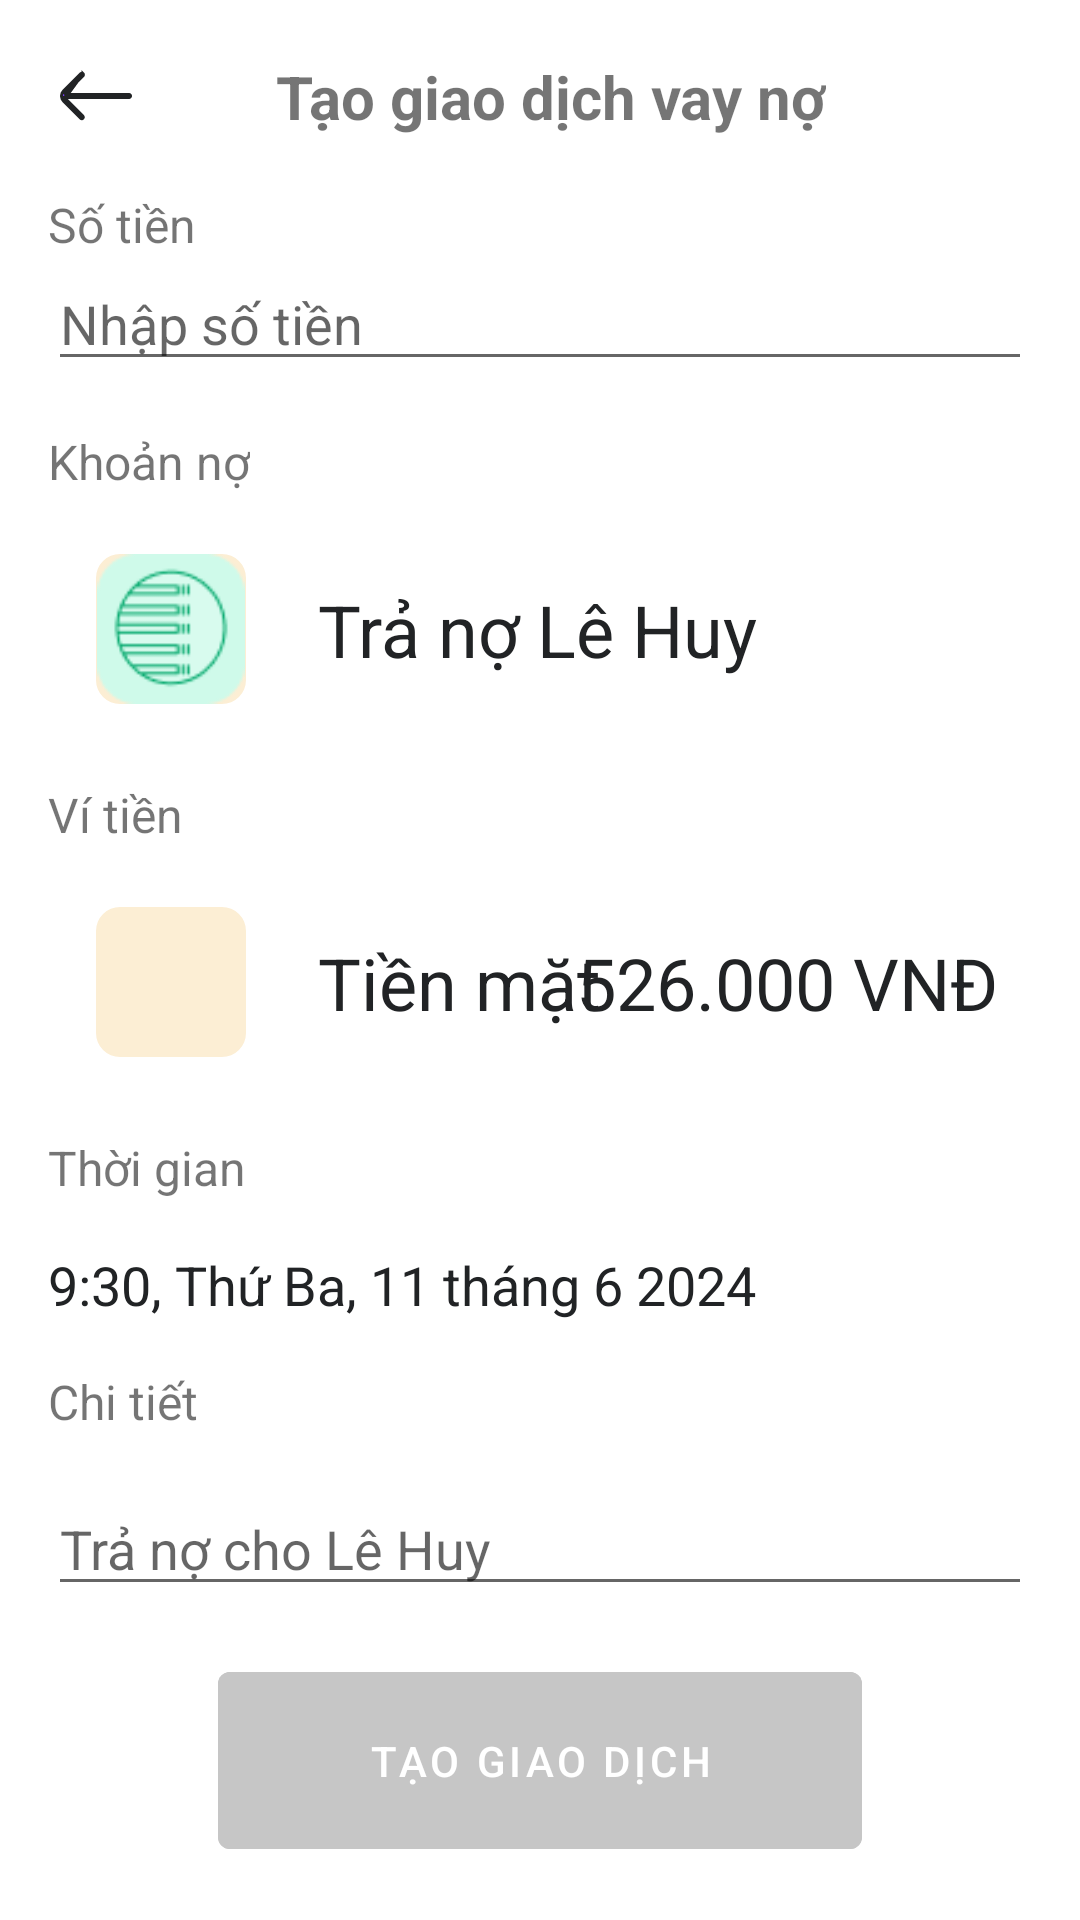

Where to tap for icons on this 1080 × 1920 app screen, as point (x, y):
back: point (96, 95)
category: point (171, 629)
